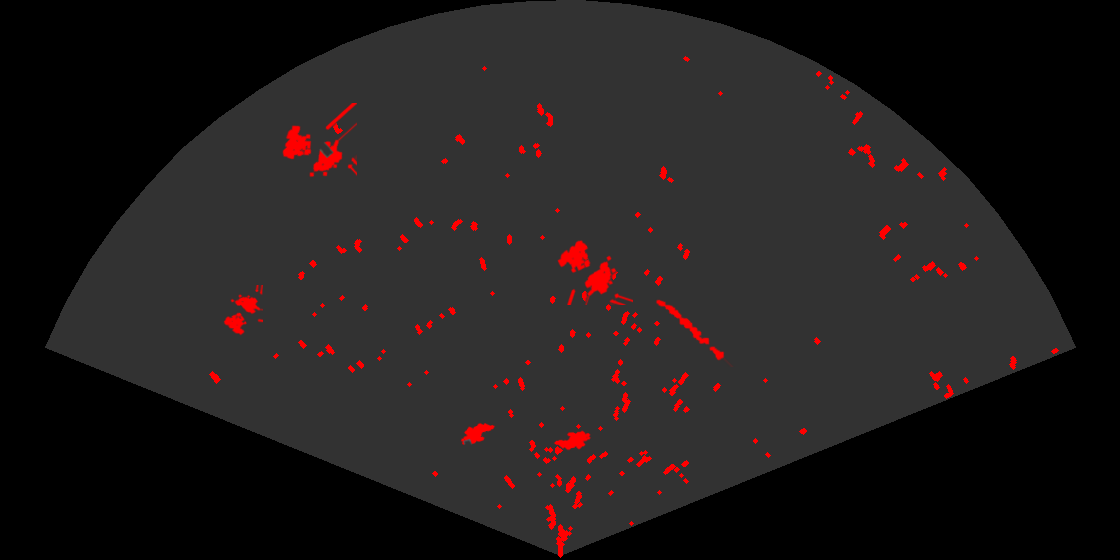AUV: (459, 421, 497, 447), (552, 429, 593, 452)
cage: (281, 103, 357, 179), (556, 239, 633, 305), (222, 285, 263, 337)
chain: (654, 298, 735, 367)
